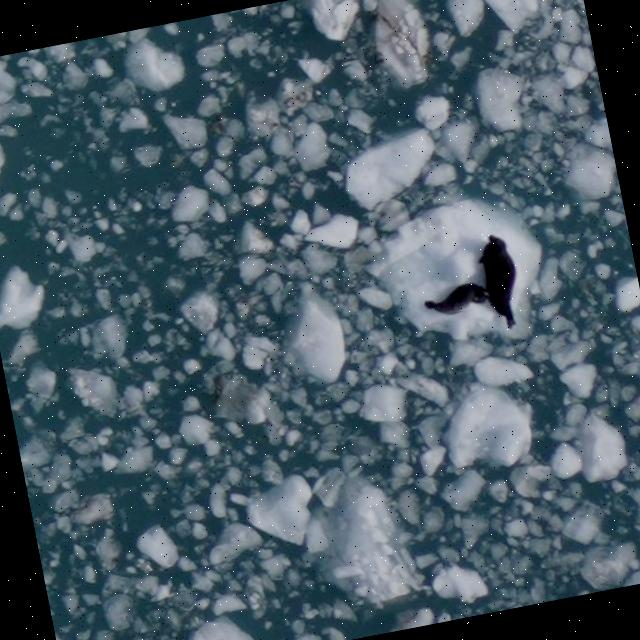seal: (476, 235, 518, 330), (425, 283, 487, 314)
